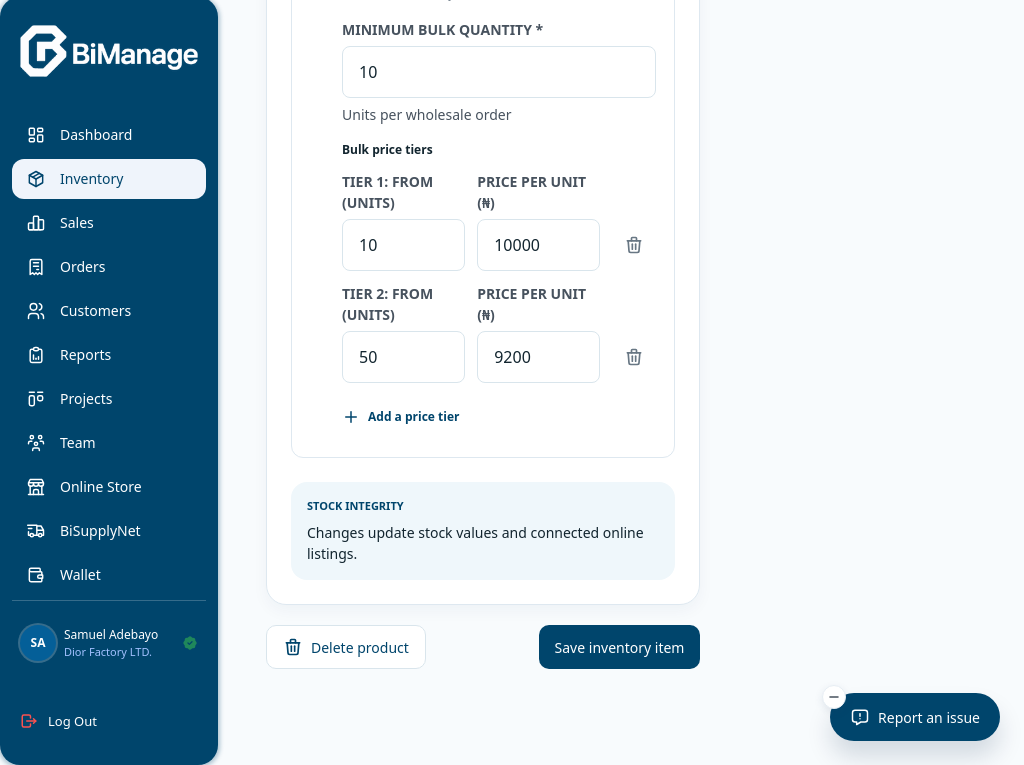
Scenario: product form: channel selling settings › a rule the server refuses is shown next to the right tier
(page scrolled)
expect the field labelled "Minimum bulk quantity *" is shown: met, box [359, 46, 649, 96]
Click the button "Save inventory item": (620, 647) [539, 625, 700, 669]
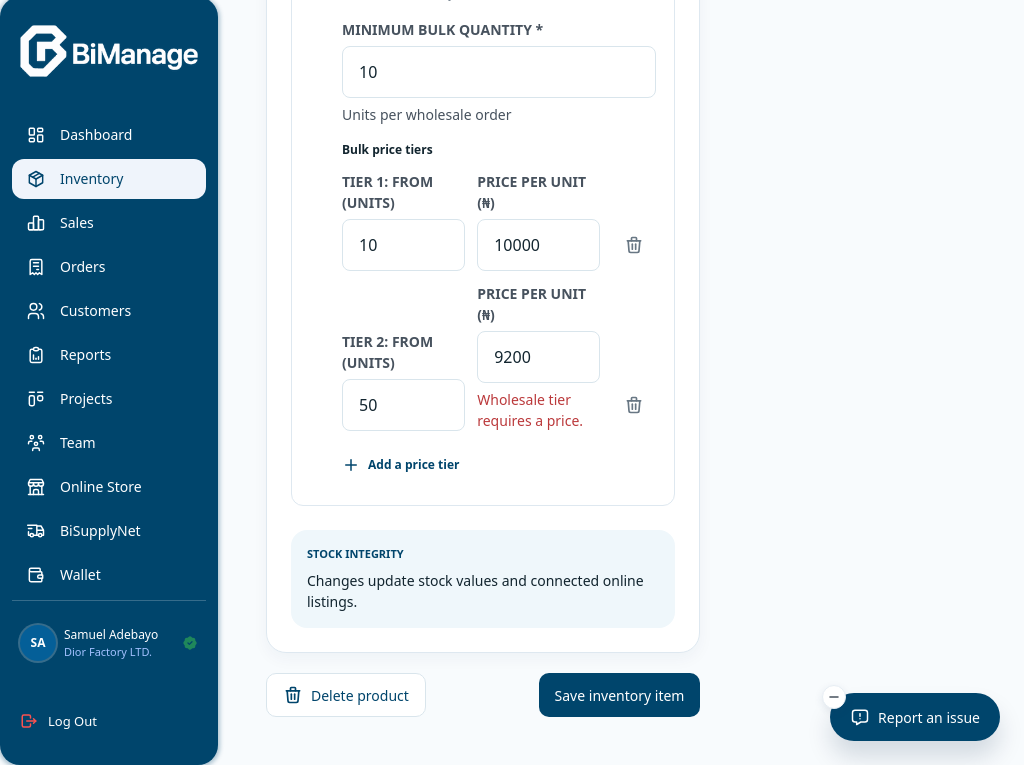
expect the text "Wholesale tier requires a price." is shown: met, box [477, 388, 600, 430]
